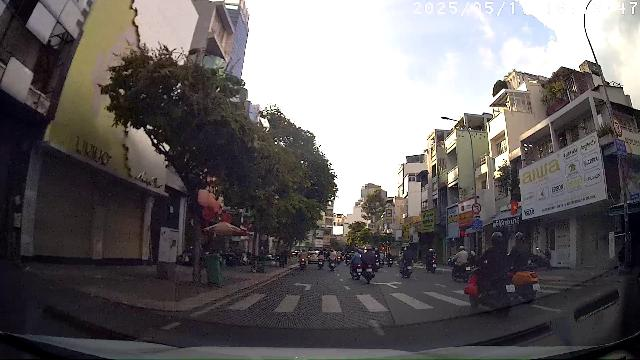103c-cam-oto-re-trai: (613, 120, 623, 136)
123a-cam-re-trai: (472, 202, 482, 213)
